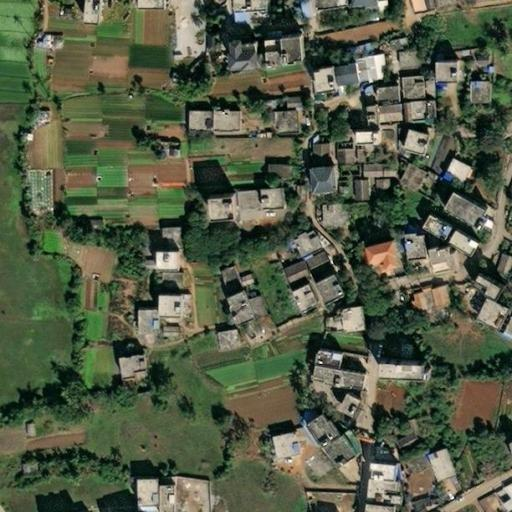building: (315, 14, 396, 46), (444, 194, 488, 235), (310, 367, 363, 391), (312, 203, 359, 230), (322, 437, 356, 473), (473, 299, 509, 333), (360, 236, 395, 269), (295, 250, 331, 282), (306, 416, 338, 450), (287, 230, 321, 261), (378, 363, 429, 383), (419, 216, 453, 244), (389, 419, 421, 448), (431, 249, 464, 277), (266, 429, 296, 459), (315, 277, 344, 308), (227, 295, 253, 329), (273, 261, 303, 290), (445, 232, 477, 258), (365, 482, 399, 506), (307, 168, 335, 197), (390, 164, 419, 192), (422, 450, 448, 481), (436, 159, 464, 187), (288, 286, 314, 316), (114, 357, 145, 382), (402, 235, 424, 270), (337, 395, 362, 424), (479, 279, 506, 304), (220, 42, 248, 66), (305, 65, 329, 93), (356, 55, 379, 84), (337, 308, 362, 334), (286, 40, 309, 68), (408, 492, 440, 512), (84, 0, 106, 29), (135, 481, 159, 507), (266, 110, 292, 134), (159, 298, 183, 323), (400, 131, 424, 156), (422, 284, 445, 310), (402, 289, 425, 315), (130, 312, 155, 335), (312, 352, 340, 372), (496, 478, 512, 512), (225, 12, 266, 25), (155, 229, 176, 254), (215, 268, 236, 293), (206, 112, 232, 132), (232, 0, 266, 15), (157, 253, 178, 277), (206, 196, 230, 217), (258, 192, 282, 213), (183, 112, 207, 133), (264, 159, 292, 177), (336, 65, 358, 87), (395, 77, 418, 98), (436, 66, 459, 87), (371, 466, 397, 484), (303, 143, 323, 166), (488, 253, 507, 277), (463, 82, 484, 103), (497, 314, 512, 343), (400, 454, 421, 474), (158, 486, 174, 512), (391, 51, 412, 70), (373, 104, 393, 123), (328, 307, 341, 336), (348, 0, 377, 13), (474, 46, 493, 65), (497, 438, 512, 461), (281, 92, 304, 107), (343, 180, 360, 200), (423, 0, 451, 12), (87, 213, 106, 230), (212, 332, 233, 347), (328, 164, 350, 178), (374, 51, 388, 73), (383, 38, 402, 54), (365, 178, 380, 198), (138, 0, 163, 12), (267, 52, 285, 68), (372, 89, 391, 104), (348, 130, 368, 144), (327, 150, 345, 165), (22, 417, 37, 435), (245, 299, 258, 319), (364, 504, 395, 512), (354, 87, 365, 109), (427, 81, 439, 101), (363, 109, 375, 129), (405, 103, 418, 121), (265, 41, 282, 54), (374, 164, 387, 180), (292, 1, 304, 18), (392, 343, 404, 359), (420, 103, 430, 120), (258, 31, 275, 40), (232, 273, 244, 285), (421, 445, 435, 455), (353, 171, 373, 178), (353, 164, 373, 171), (347, 149, 356, 164), (355, 42, 366, 54), (359, 180, 365, 198), (338, 180, 343, 198), (349, 43, 358, 53), (394, 333, 402, 343), (335, 46, 348, 52), (477, 494, 486, 501), (416, 60, 424, 67), (452, 51, 460, 57), (427, 54, 433, 61), (479, 67, 483, 73)
